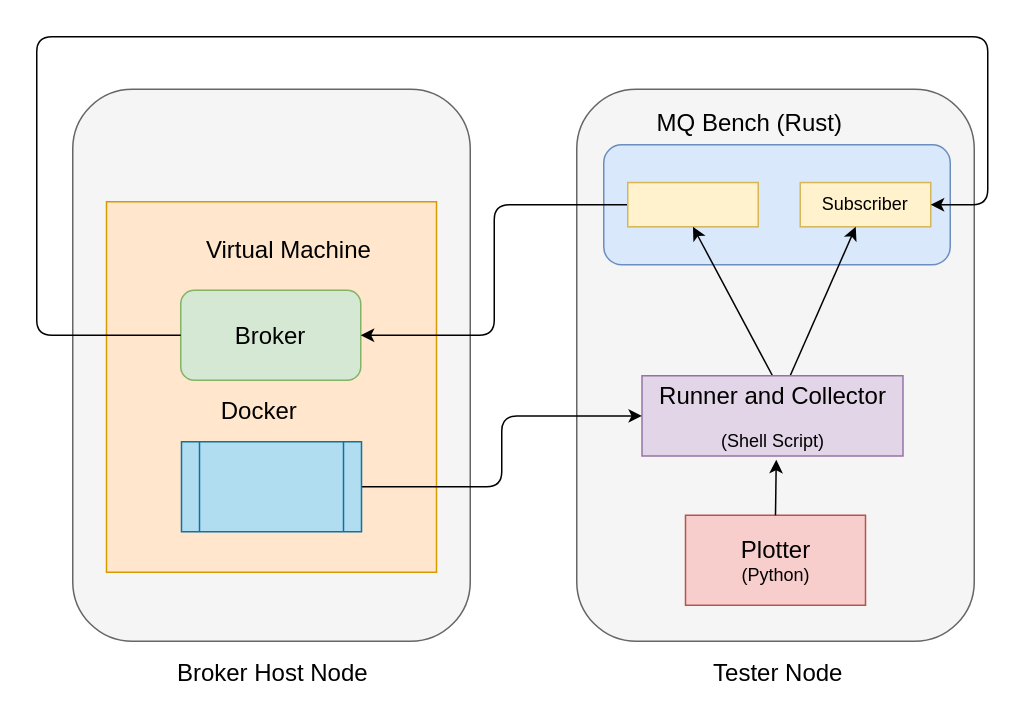
Some shapes in this 1026 by 722 pixel diagram are drawn without their labels. The box of each missing label's shape, as (x1, y1, x2, y2) in pixels:
Publisher: (626, 181, 758, 227)
Resource Consumption (CPU / Memory): (180, 440, 362, 532)
